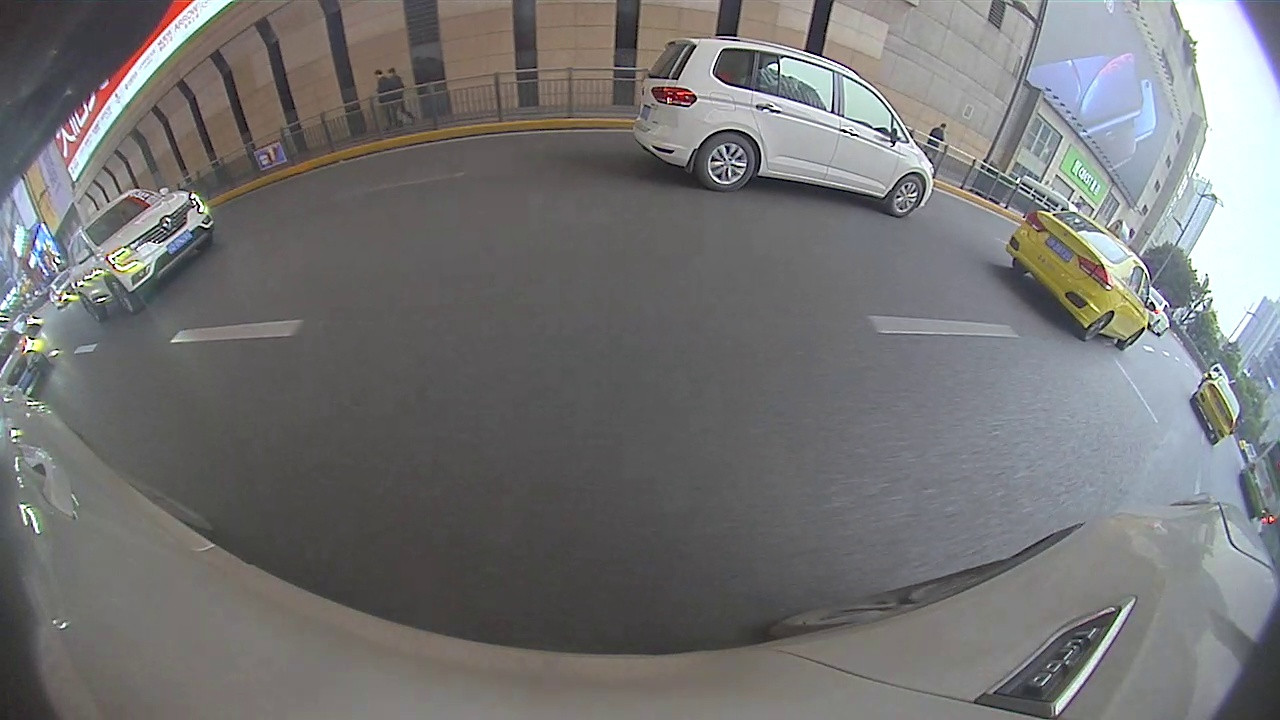car: (630, 35, 936, 219), (1003, 209, 1158, 353), (68, 188, 217, 323), (1188, 376, 1243, 448)
front: (886, 176, 928, 218), (106, 275, 140, 315), (1118, 330, 1145, 351)
rear: (696, 135, 755, 191), (1082, 308, 1116, 344), (78, 293, 102, 325)
